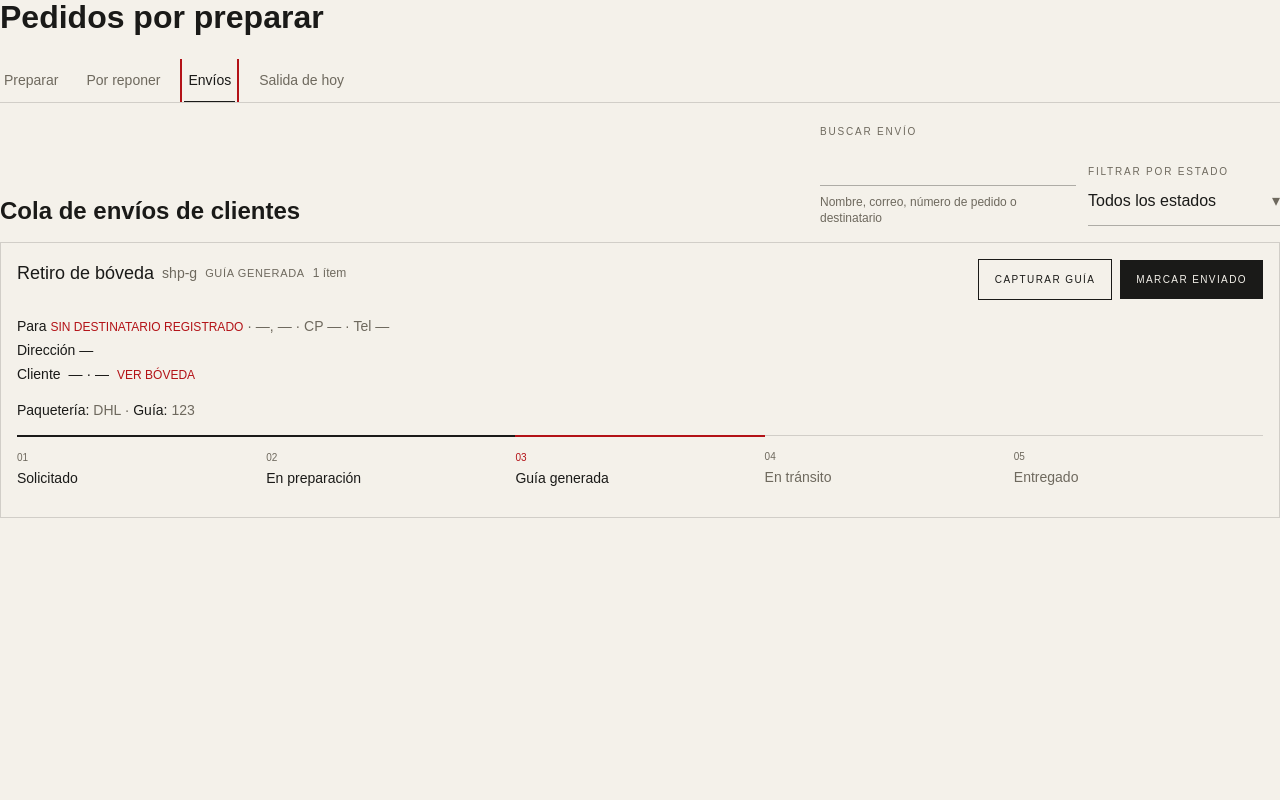
M4View · hueco 15: «Marcar enviado/entregado» confirman › «Marcar enviado» abre un diálogo neutro con el foco en «Cancelar»; cancelar NO cambia nada
Expected: the element with test id "shipment-parties-shp-g" is shown, [17,318,389,382]
Click the button "Marcar enviado": coordinates (1192, 280) [1120,260,1263,299]
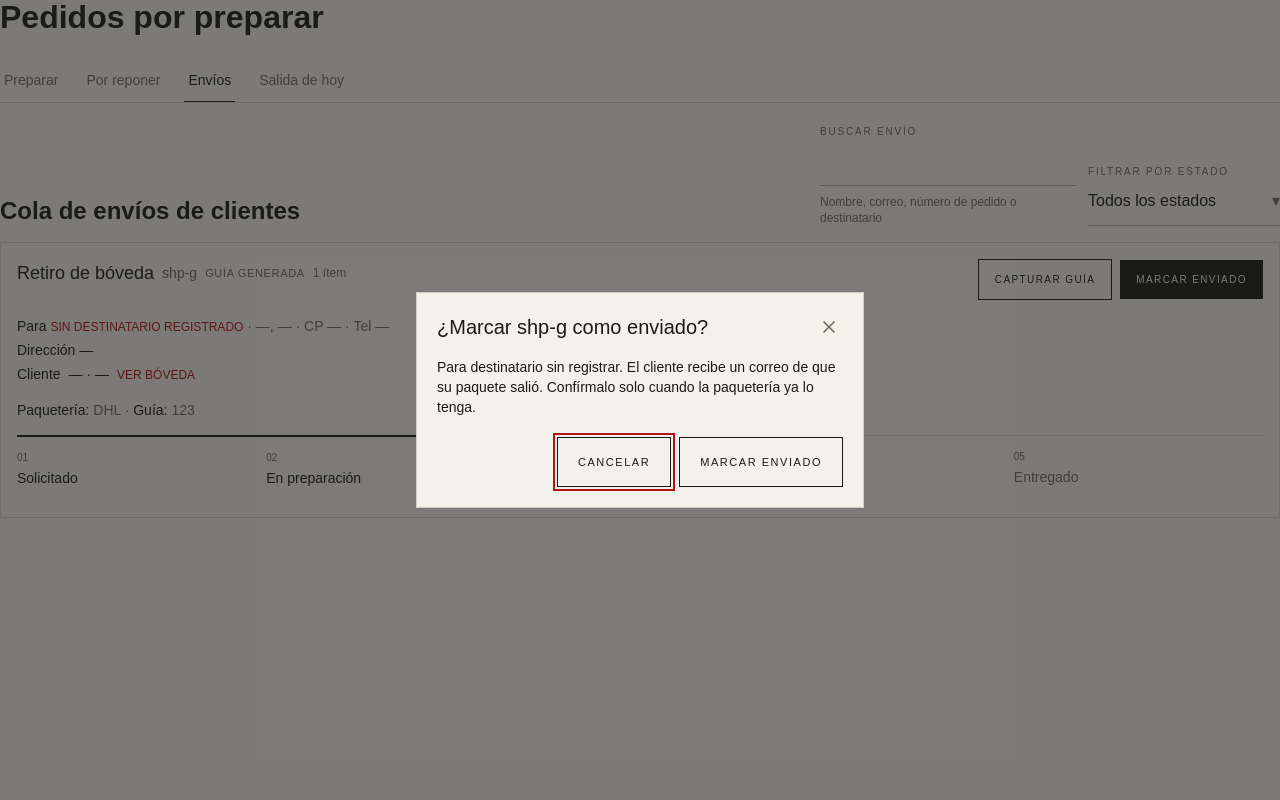
Expected: the dialog "¿Marcar shp-g como enviado?" shows "El cliente recibe un correo de que su paquete salió.", [437,359,836,415]
Click the button "Cancelar": coordinates (614, 462) [557,437,671,487]
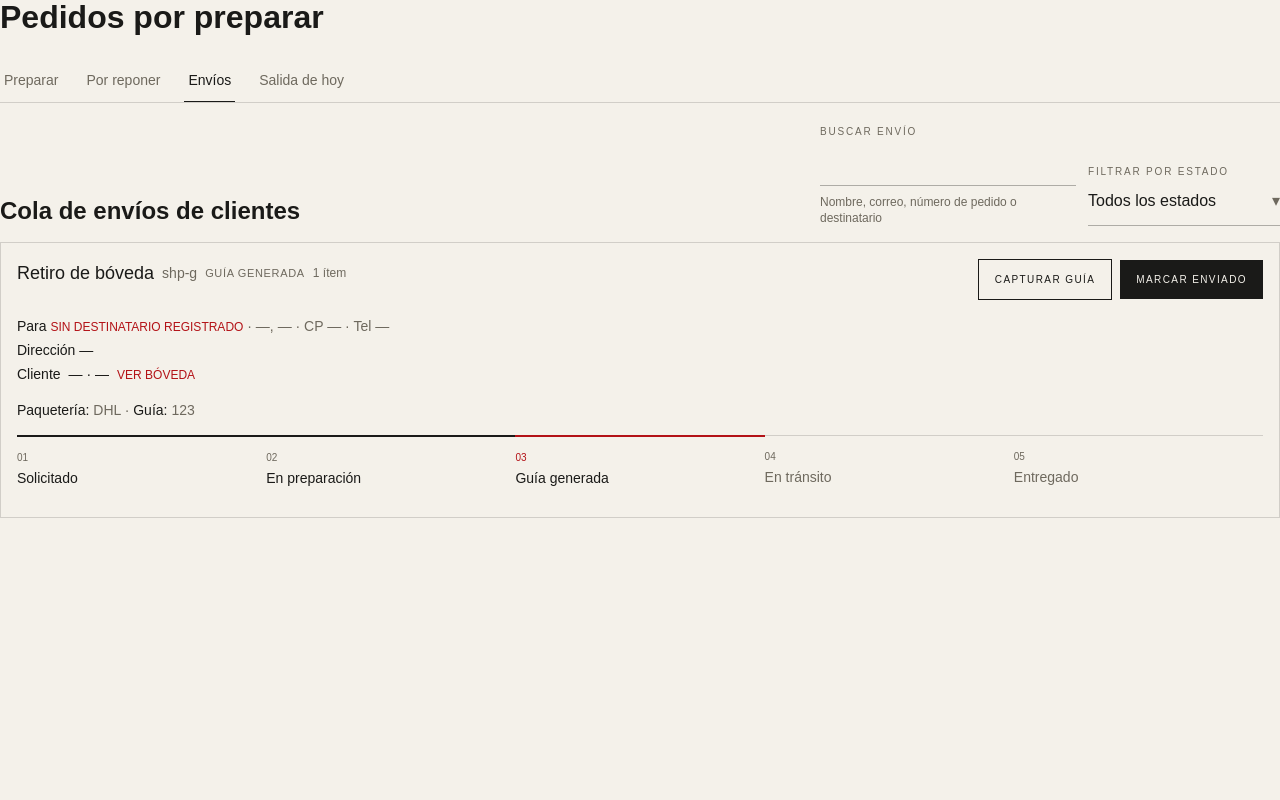
Expected: the dialog is gone
